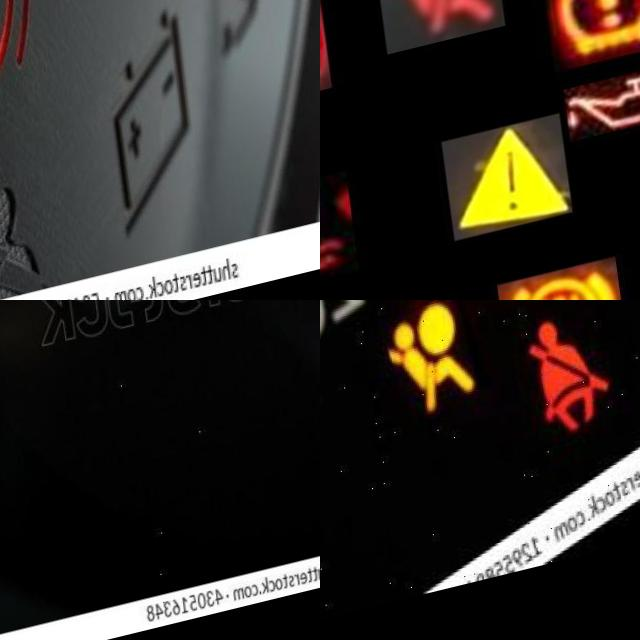Central Warning lamp: (435, 131, 564, 253)
Engine cooling system: (320, 178, 349, 300)
